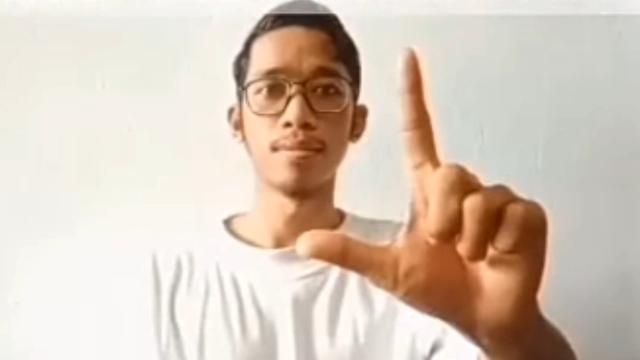L: (290, 41, 556, 328)
